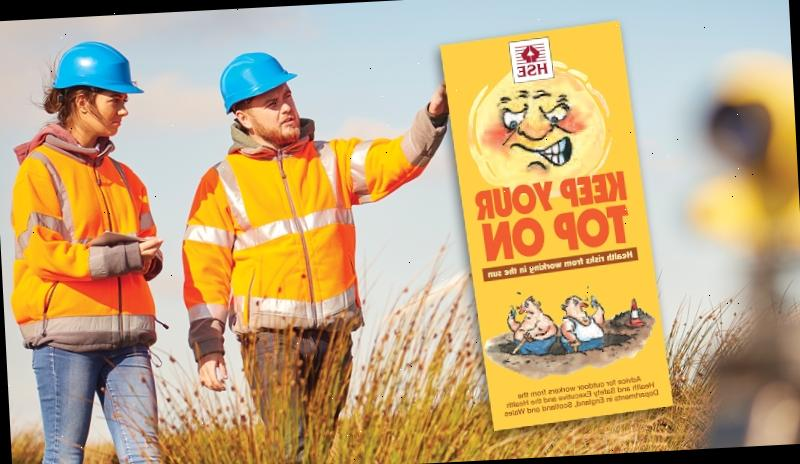helmet: (43, 38, 144, 100), (215, 47, 301, 116)
wear: (6, 142, 154, 350), (213, 146, 364, 338)
